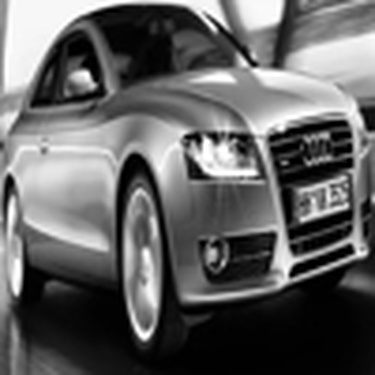car: (1, 1, 372, 358)
